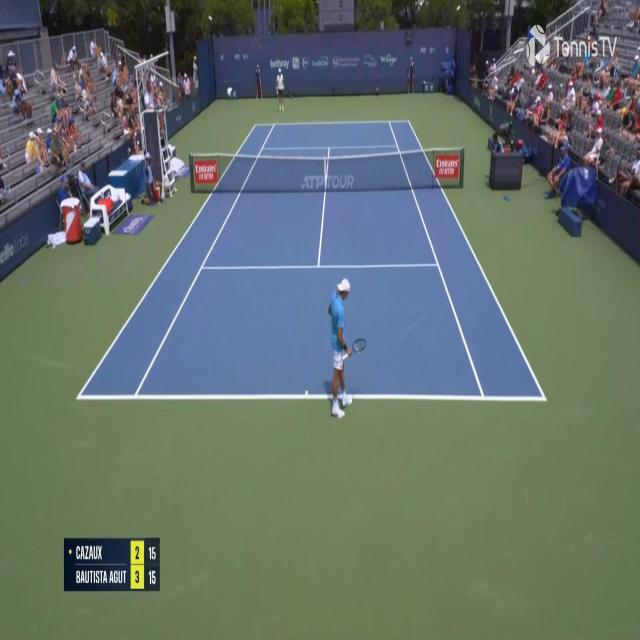tennis-player: (324, 275, 368, 422), (275, 67, 286, 114)
